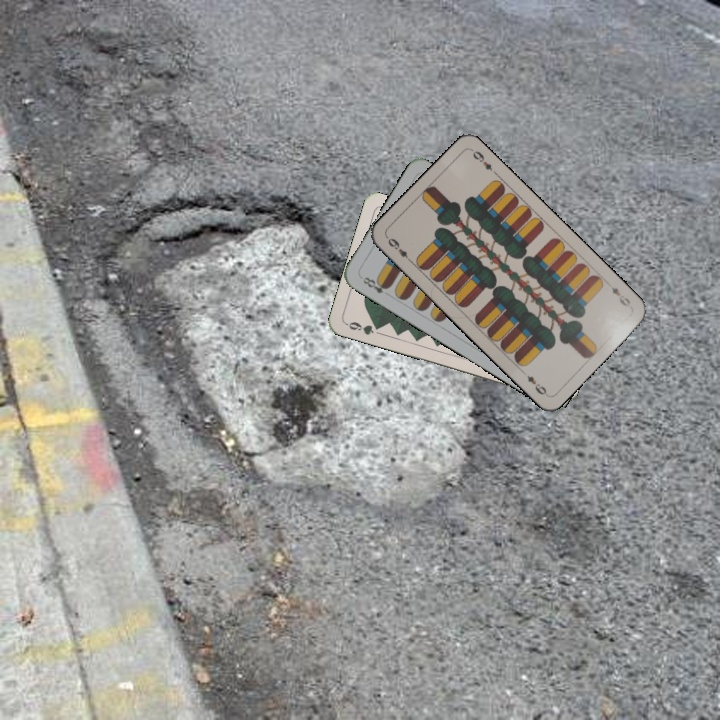E8: (359, 273, 392, 296)
E9: (383, 233, 415, 265), (607, 283, 633, 309)
G9: (342, 318, 384, 338)
